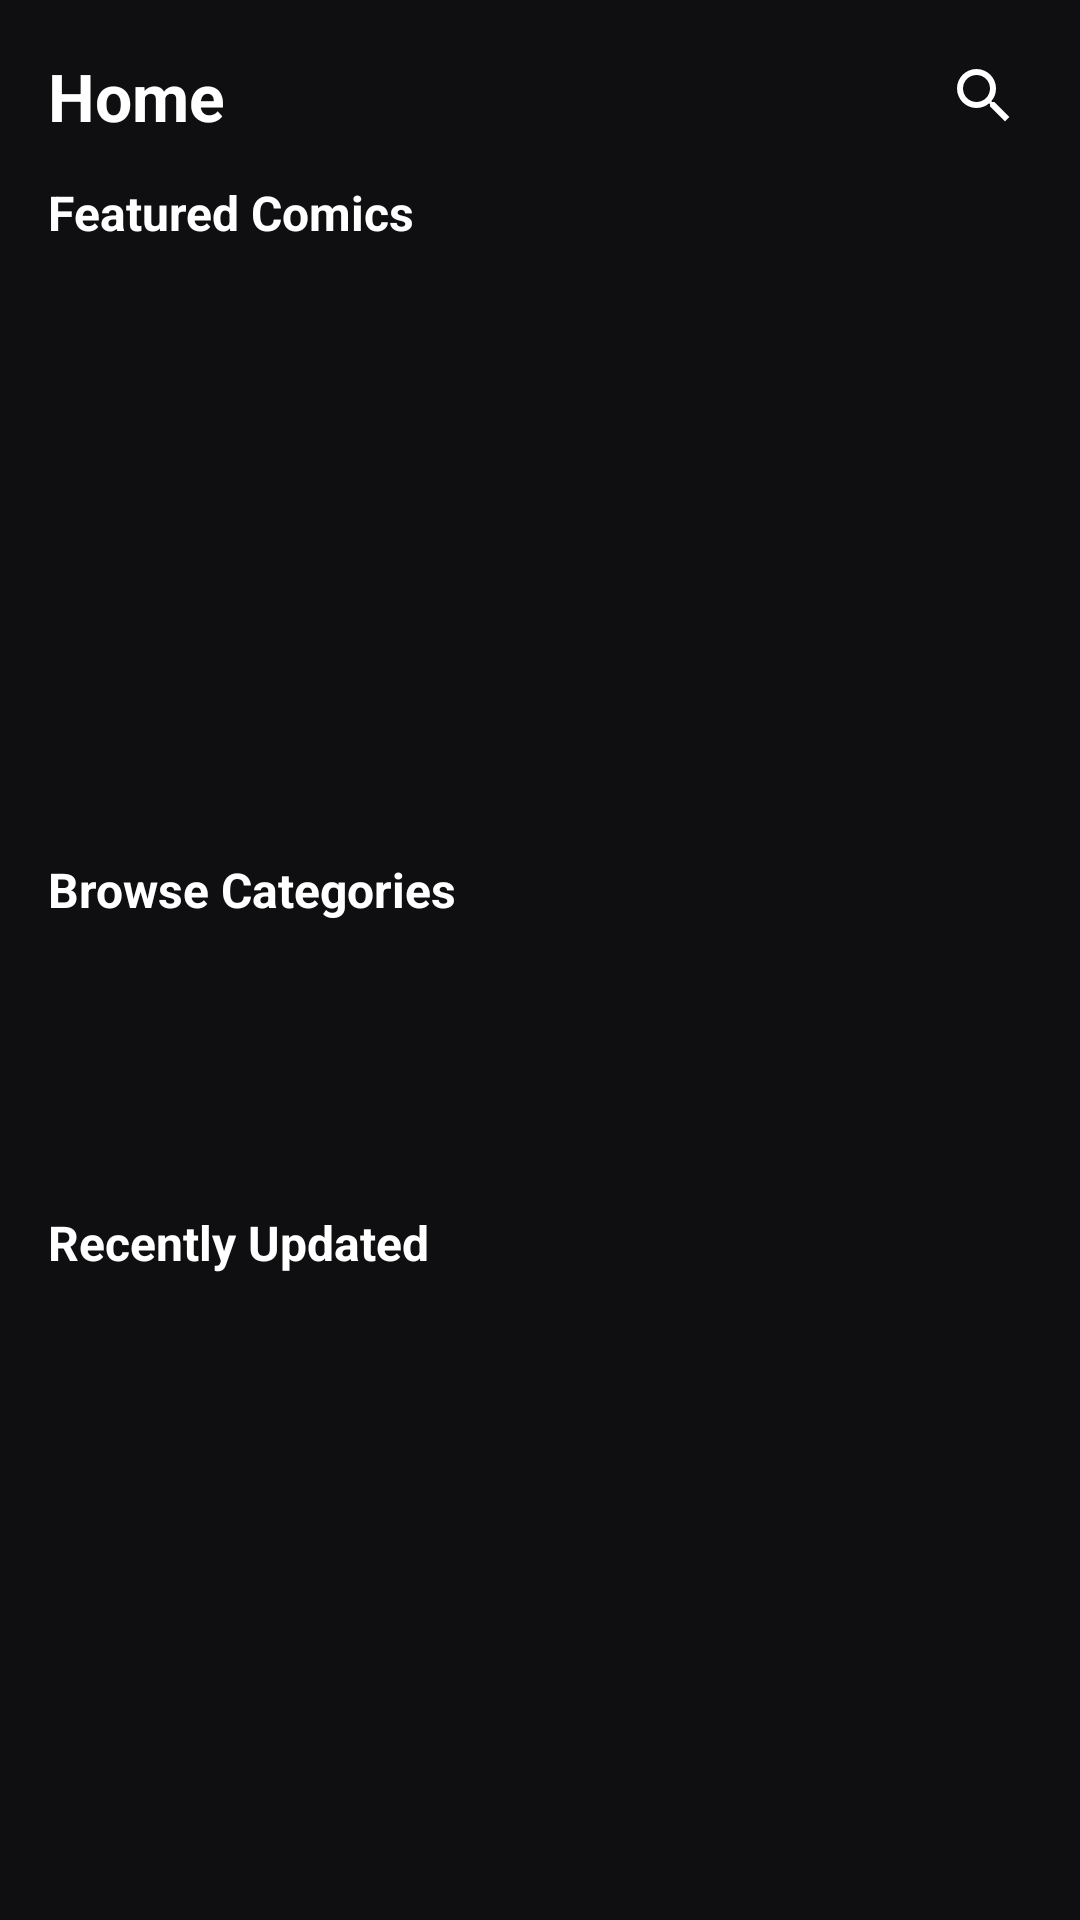

Screen size 1080px×1920px. Icon name, then its center in pixels as (x,y):
search: (983,95)
